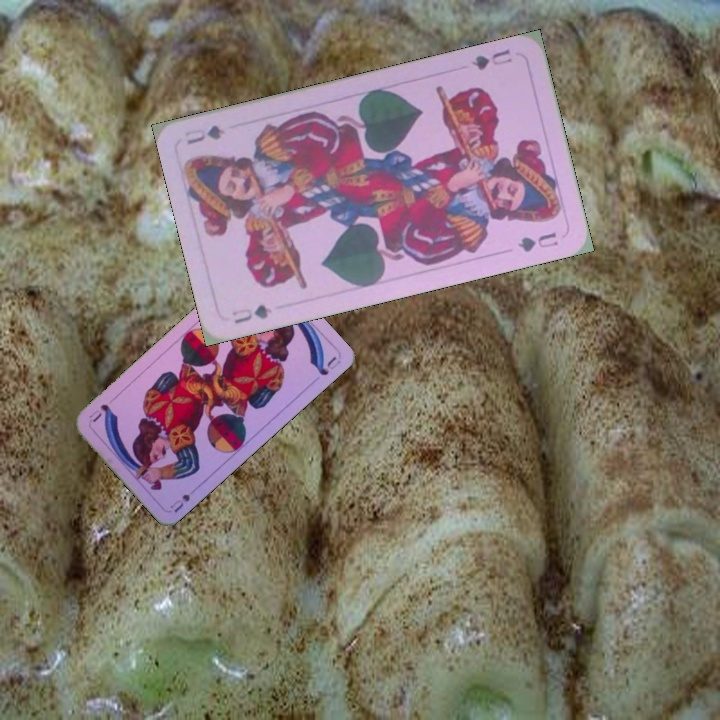GU: (467, 45, 514, 73), (228, 300, 274, 326)
SU: (166, 490, 193, 515)
